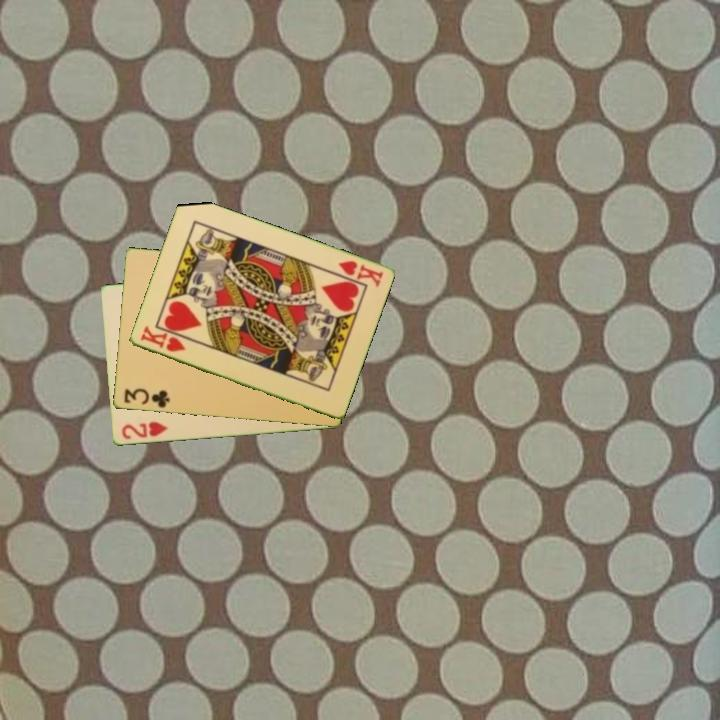2h: (118, 418, 170, 442)
3c: (120, 385, 172, 411)
Kh: (334, 257, 386, 290), (136, 323, 188, 355)
